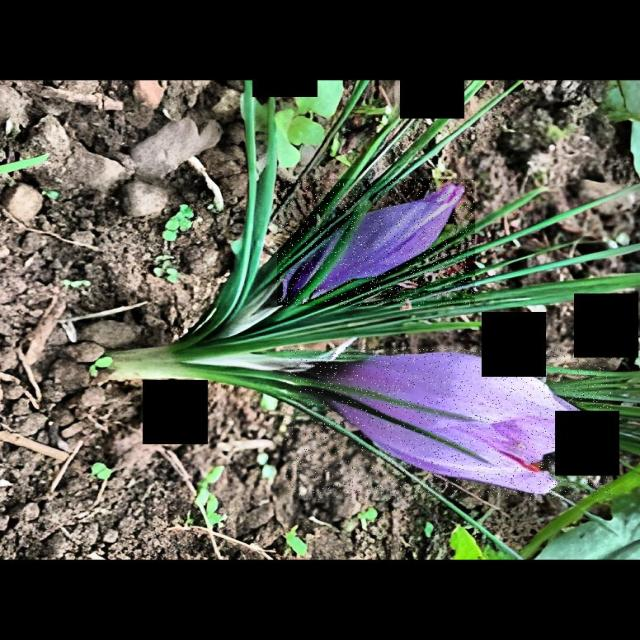Flower: (310, 352, 597, 496), (315, 182, 466, 293)
stigma: (485, 439, 548, 475)
